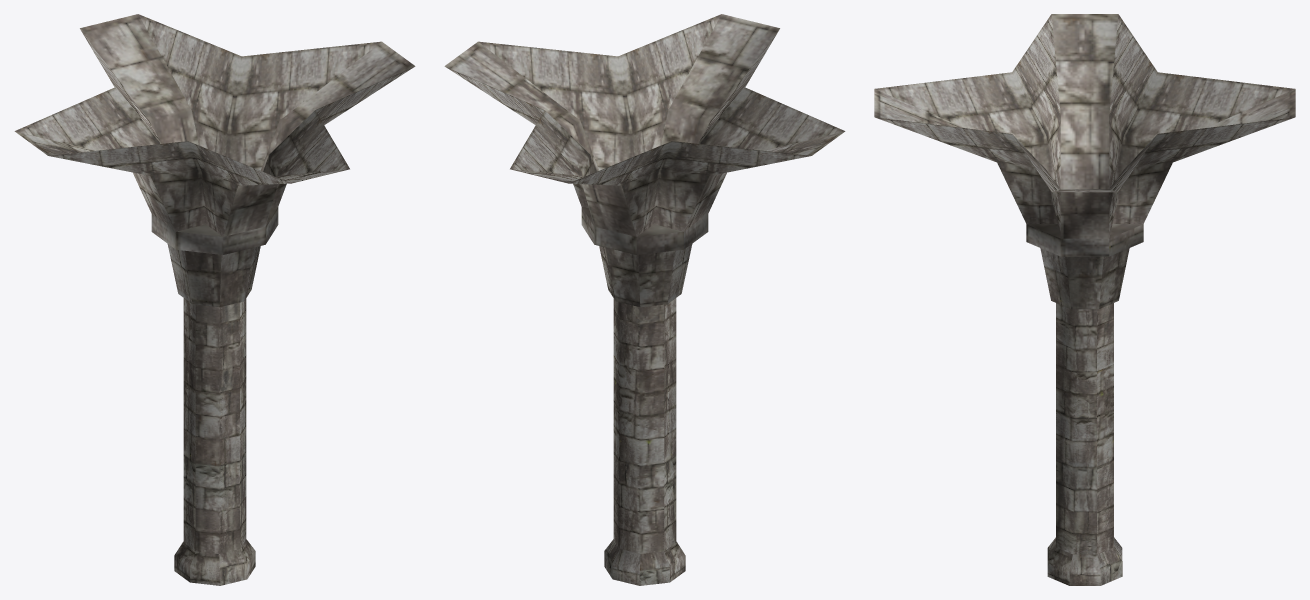
File: ornate_pillar_full.glb
The picture shows the model from 3 angles, left to right: view 1: azimuth 30°, elevation 25°; view 2: azimuth 150°, elevation 25°; view 3: azimuth 270°, elevation 25°; orthographic projection.
Visible parts, largest first — view 1: ornate_pillar_full; view 2: ornate_pillar_full; view 3: ornate_pillar_full.
Part boxes in pixels (<box>): ornate_pillar_full: <box>14,14,415,585</box>; ornate_pillar_full: <box>444,14,845,585</box>; ornate_pillar_full: <box>874,14,1295,585</box>.
Size of the model in its own units: 7.61 by 9.3 by 7.61.
Materials: 1 (1 with a texture image).
